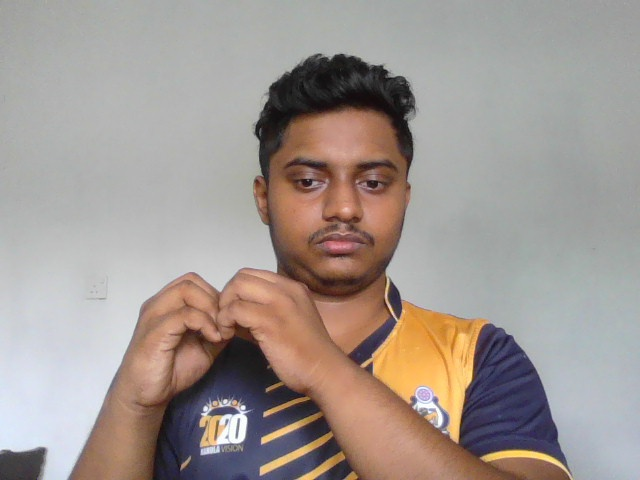More: (127, 268, 324, 403)
